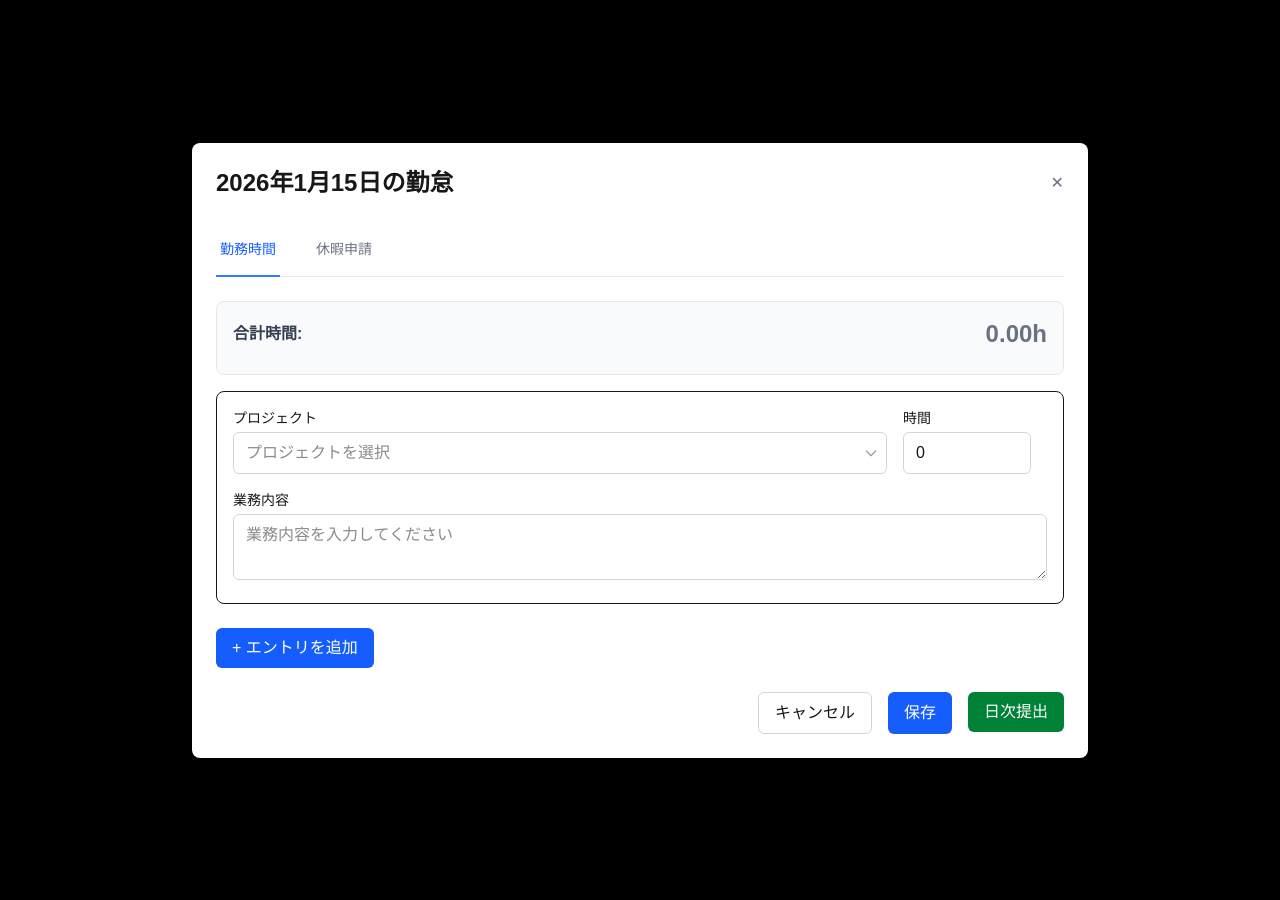
Test: DailyEntryForm › Save Functionality › should display saving state while save is in progress
The width and height of the screenshot is (1280, 900).
Click the dropdown labelled "プロジェクト" at (560, 452), box 233,432 -> 887,474
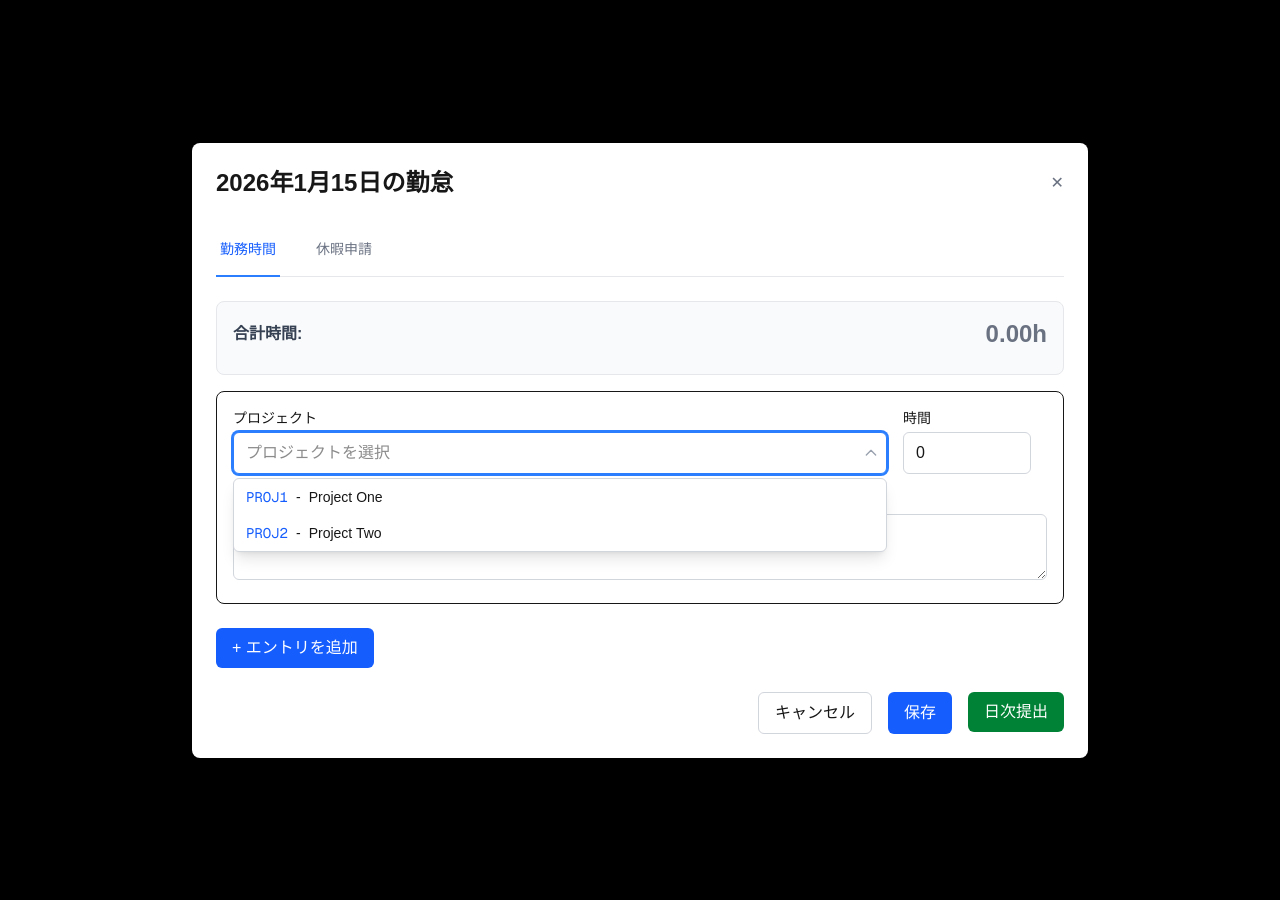
Click the option "PROJ1-Project One" at (314, 496), box 246,488 -> 383,506
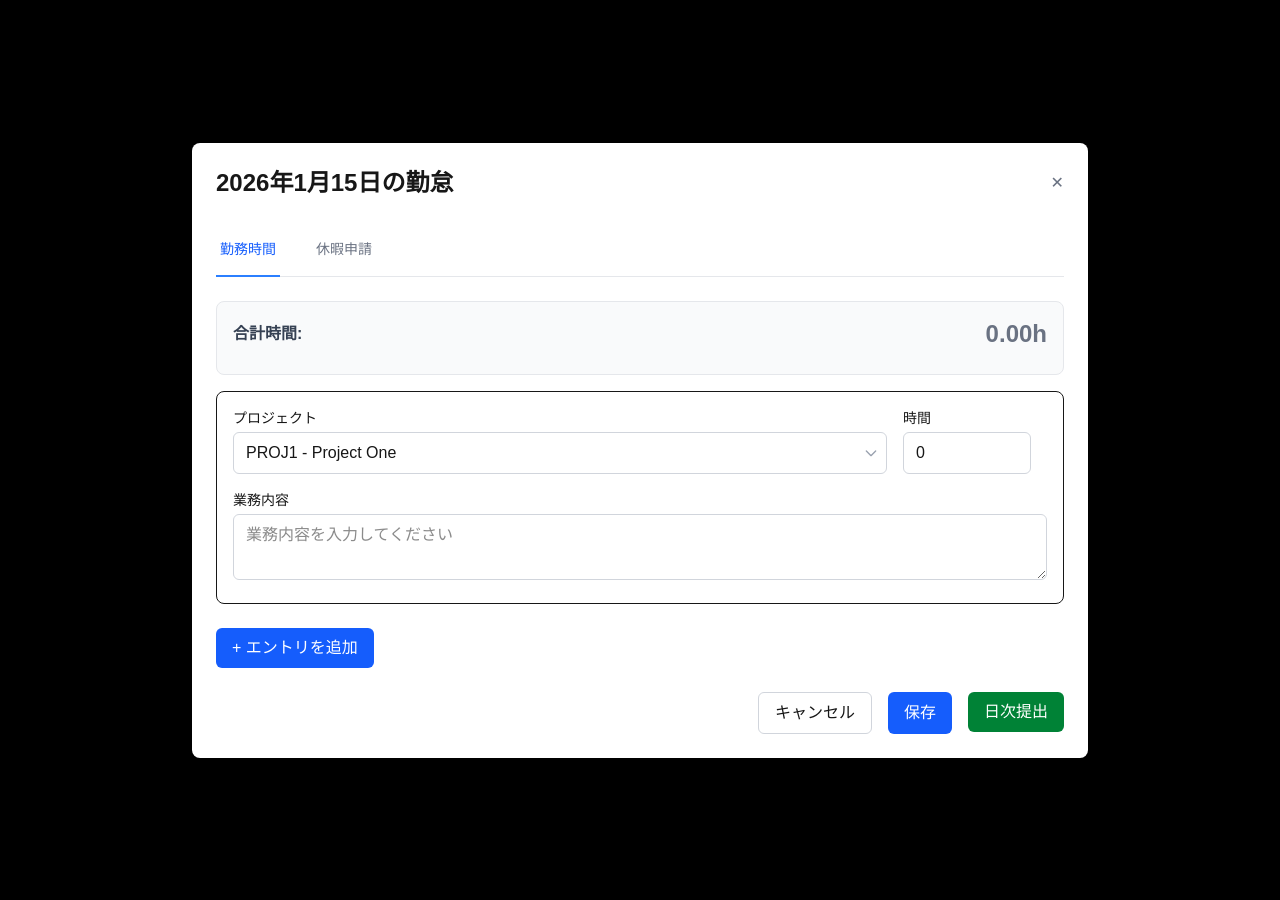
Type "8" into the number field labelled "時間" at (967, 452), box 903,432 -> 1031,474
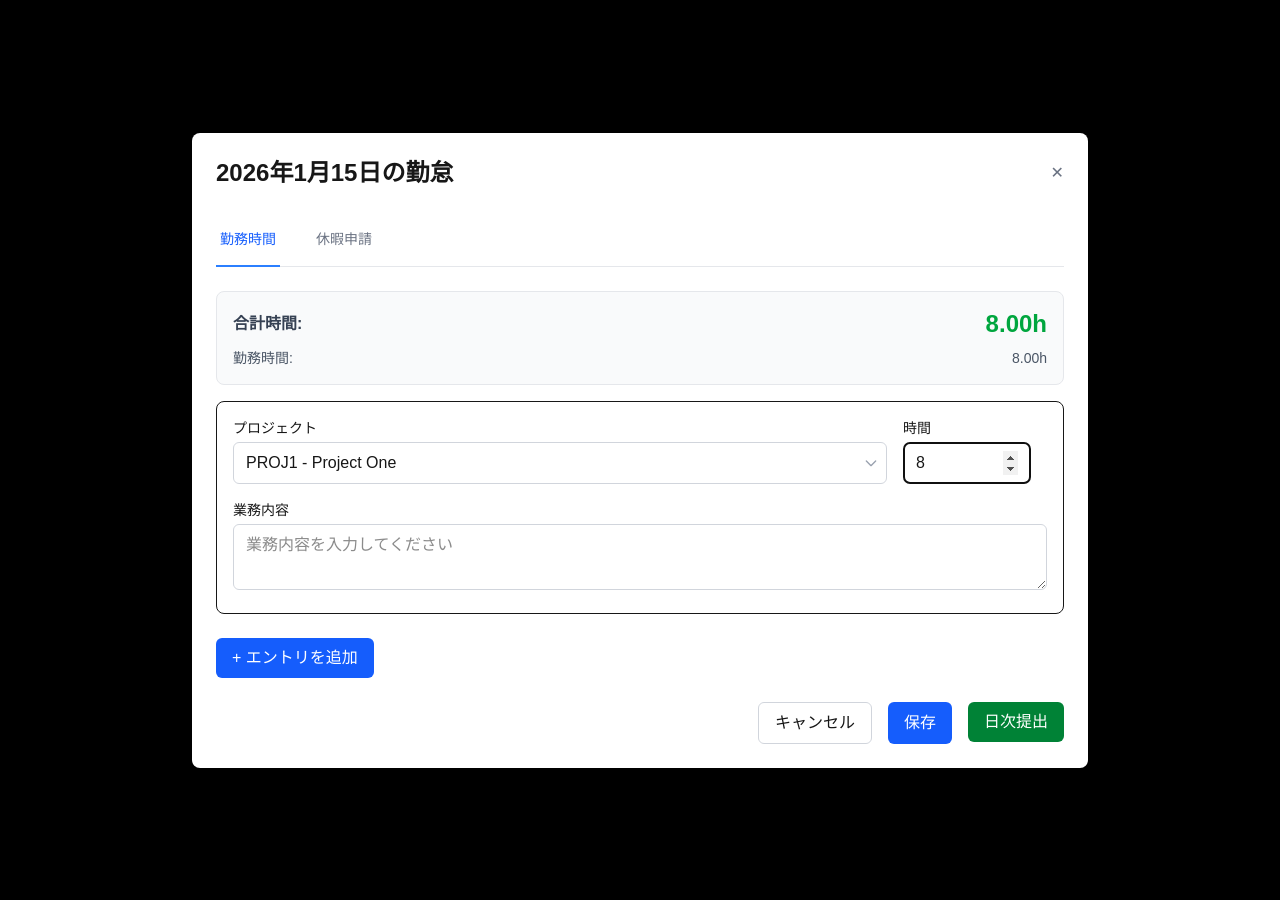
Click the button "保存" at (920, 722), box 888,702 -> 952,744
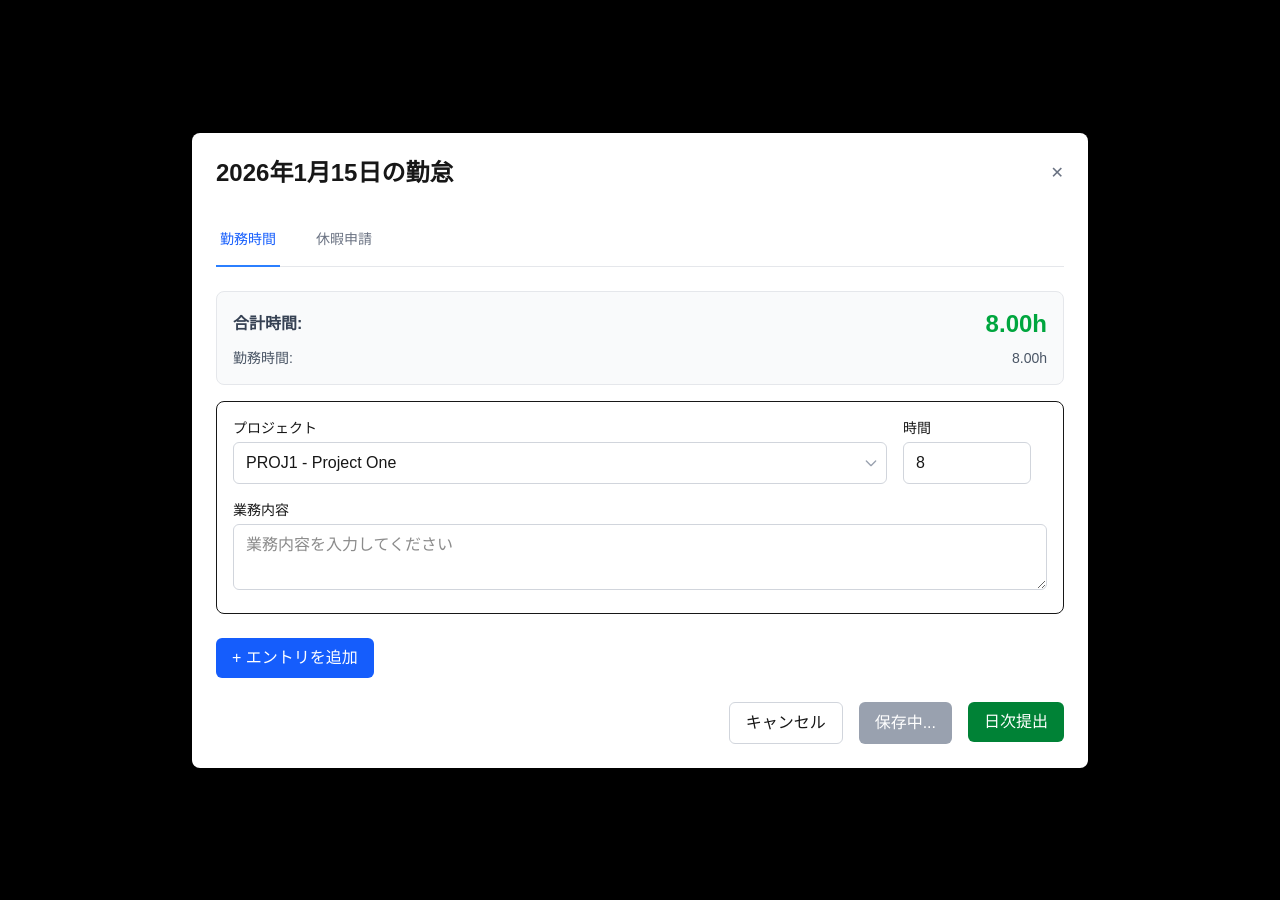
Expected: the button "保存中..." is shown, 859,702 -> 952,744
